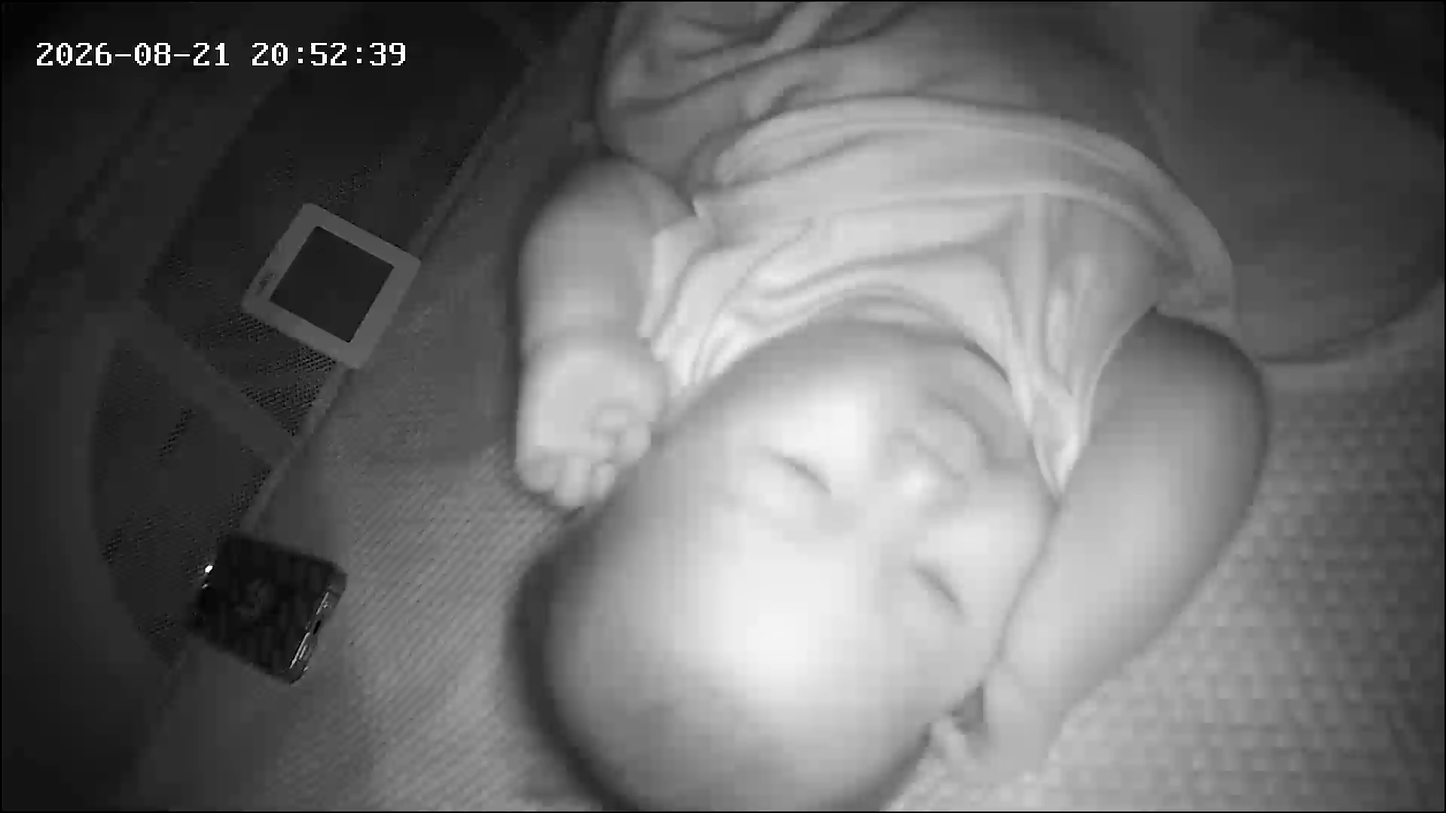baby: (483, 1, 1323, 811)
baby_face: (493, 312, 1070, 808)
